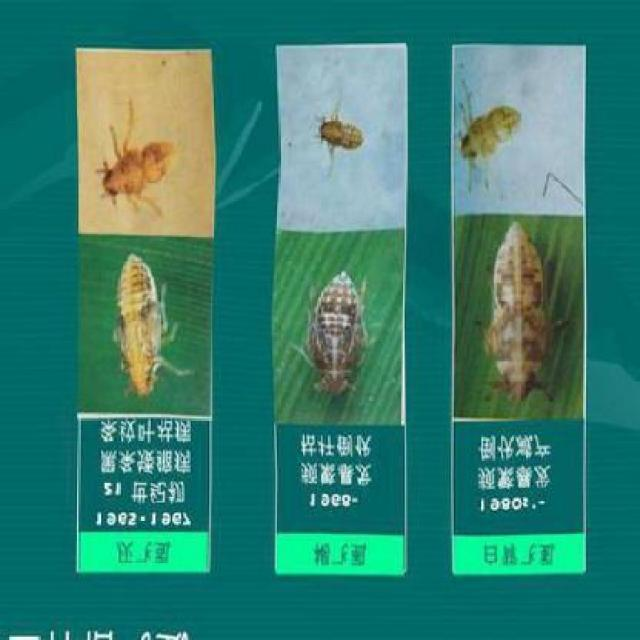brown-planthopper: (490, 220, 552, 405), (112, 249, 170, 397), (309, 265, 369, 397)
